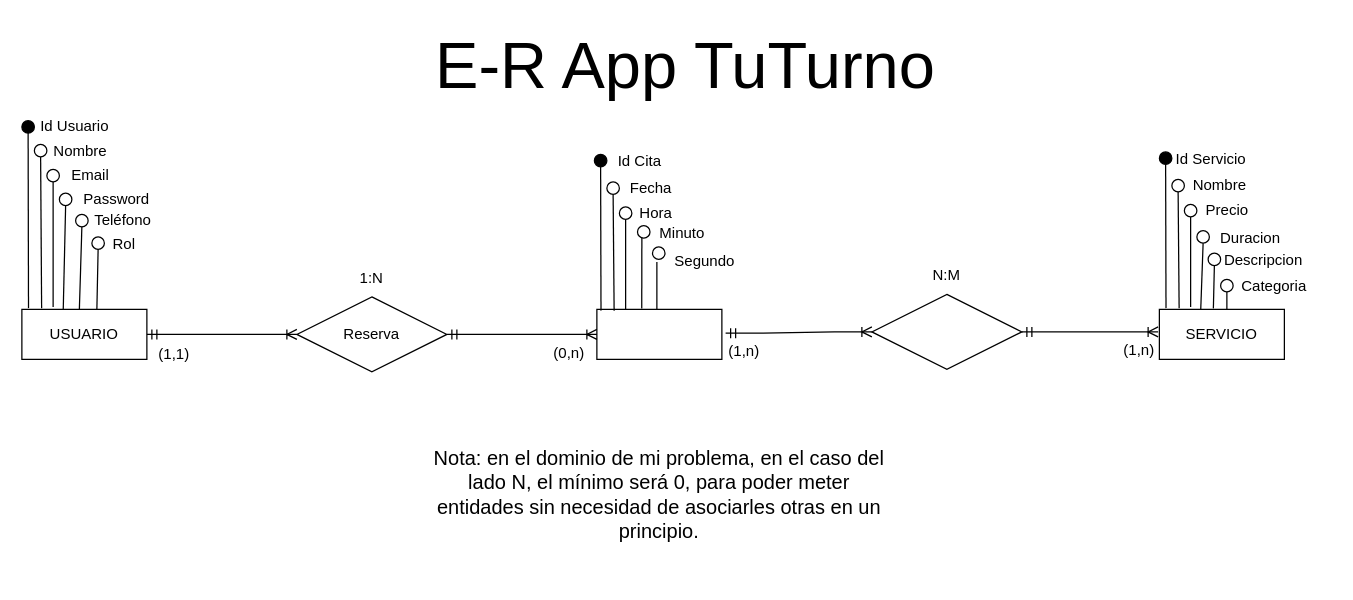
Image size: 1353x600. Some labels were removed from this diagram. The centre of each missing label's shape, as x and y in pixels:
CITA: the point at 659,333
Se ofrece: the point at 946,331
